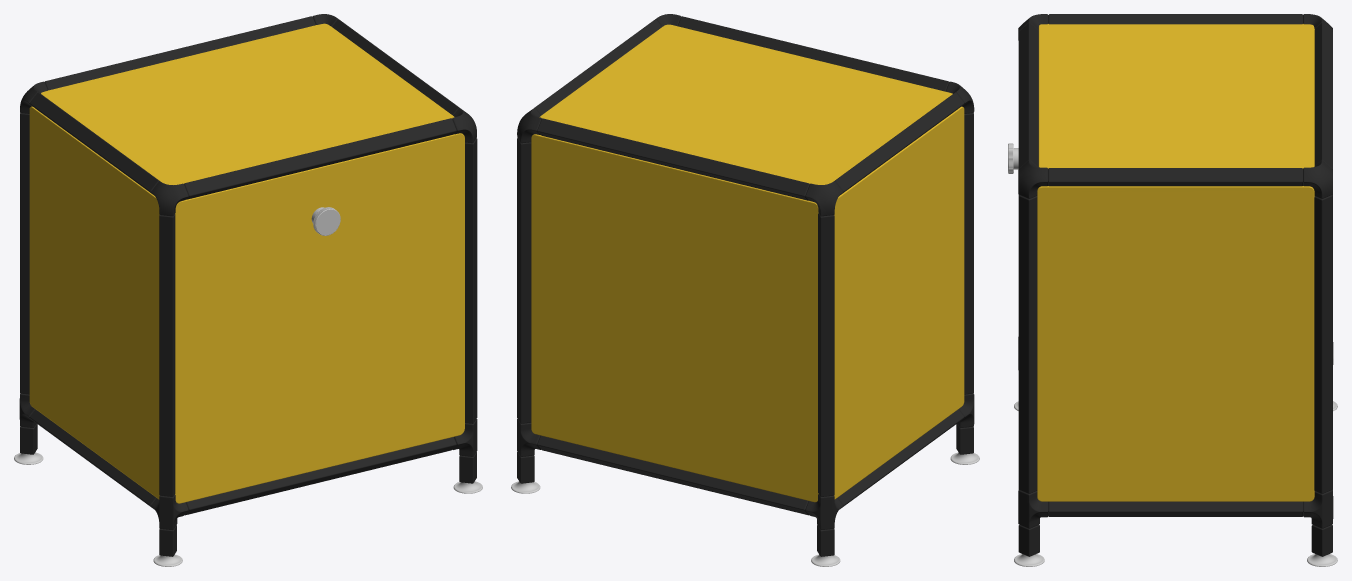
3 renders of one model, left to right at view 1: azimuth 30°, elevation 25°; view 2: azimuth 150°, elevation 25°; view 3: azimuth 270°, elevation 25°, orthographic. The views are drawn at different scales.
Visible parts, largest first — view 1: 420x329x420; view 2: 420x329x420; view 3: 420x329x420.
Part boxes in pixels (x1=…): 420x329x420: x1=14, y1=14, x2=482, y2=566; 420x329x420: x1=511, y1=14, x2=979, y2=566; 420x329x420: x1=1008, y1=14, x2=1337, y2=566.
Size of the model in its own units: 0.5099 by 0.5593 by 0.4257.
